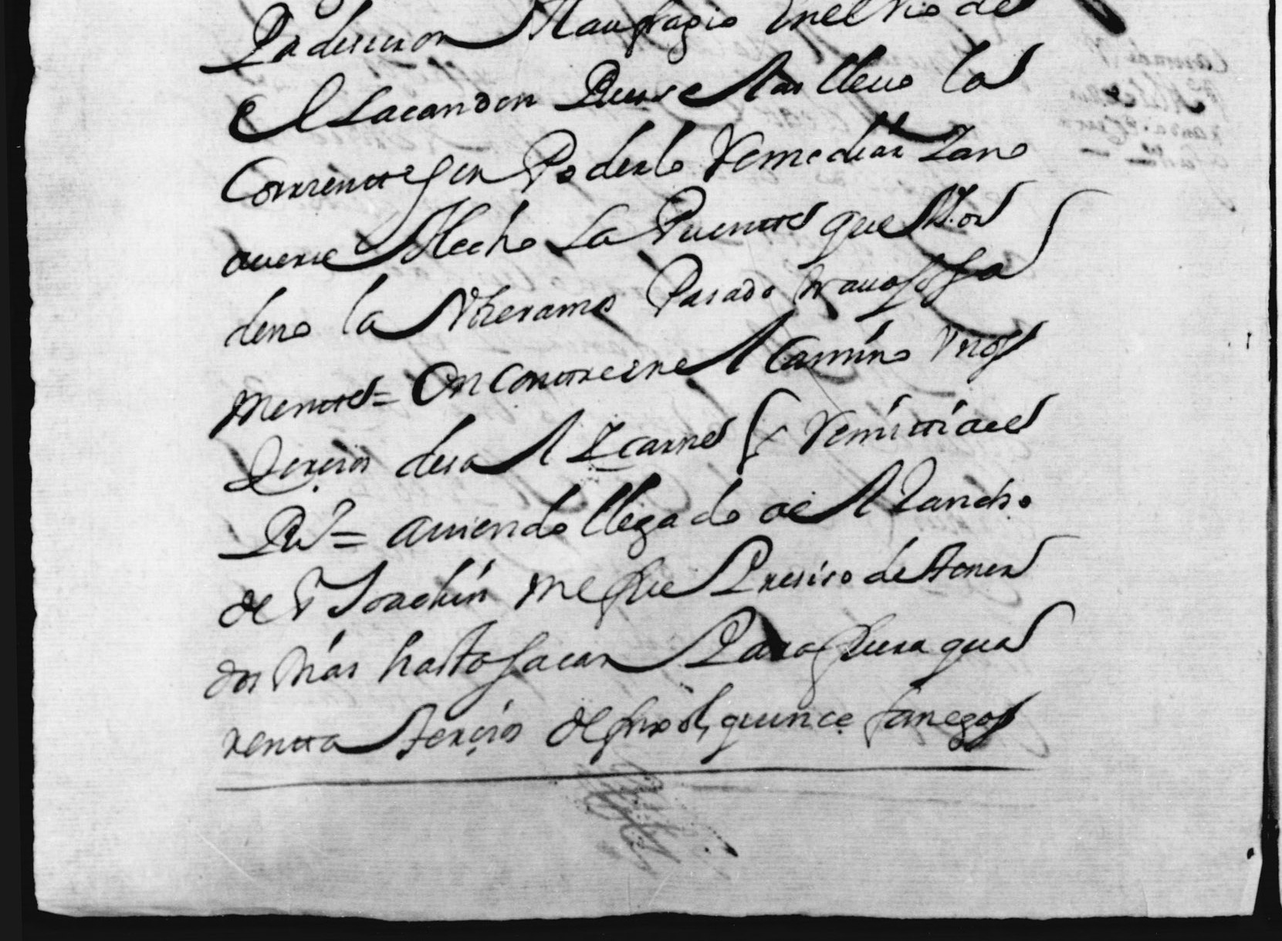lacandon: (326, 85, 537, 127)
